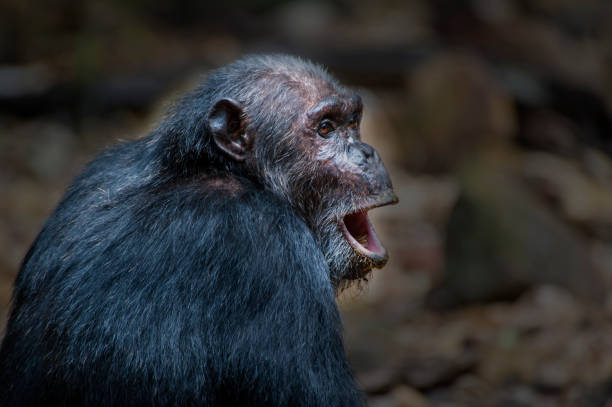chimpanzee: (197, 47, 447, 303)
